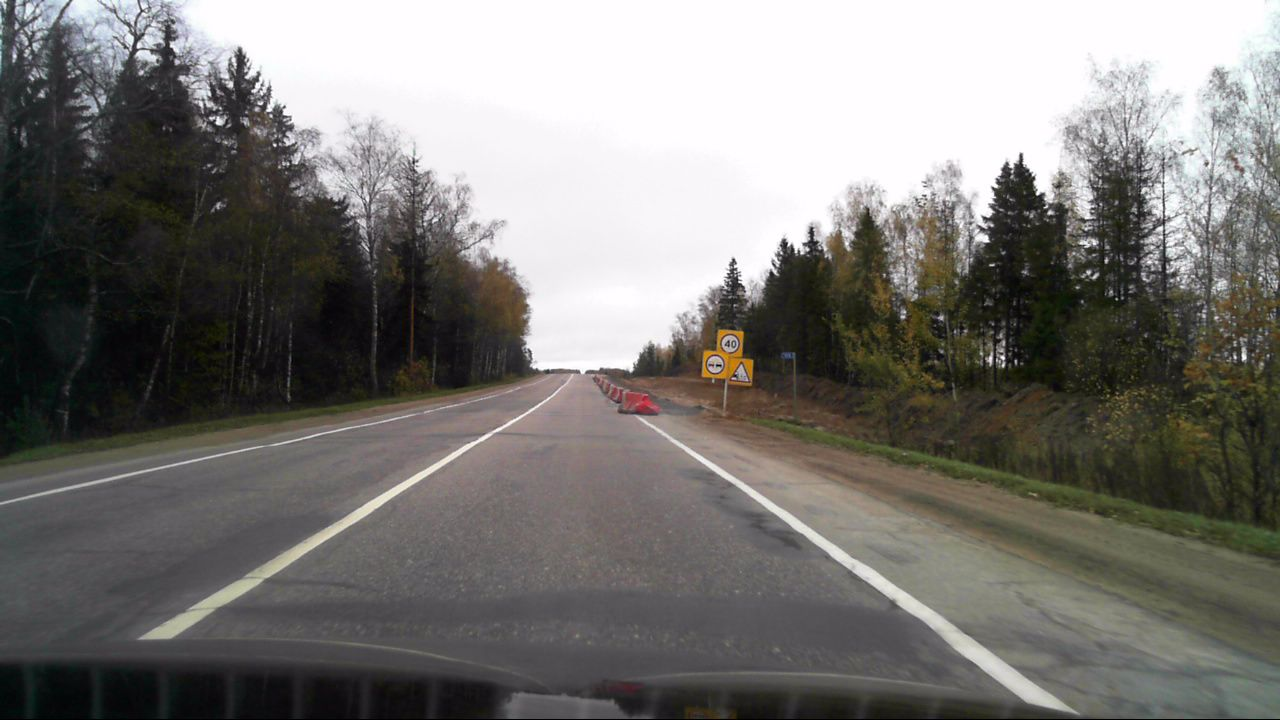speed_warning_40: (717, 329, 743, 356)
